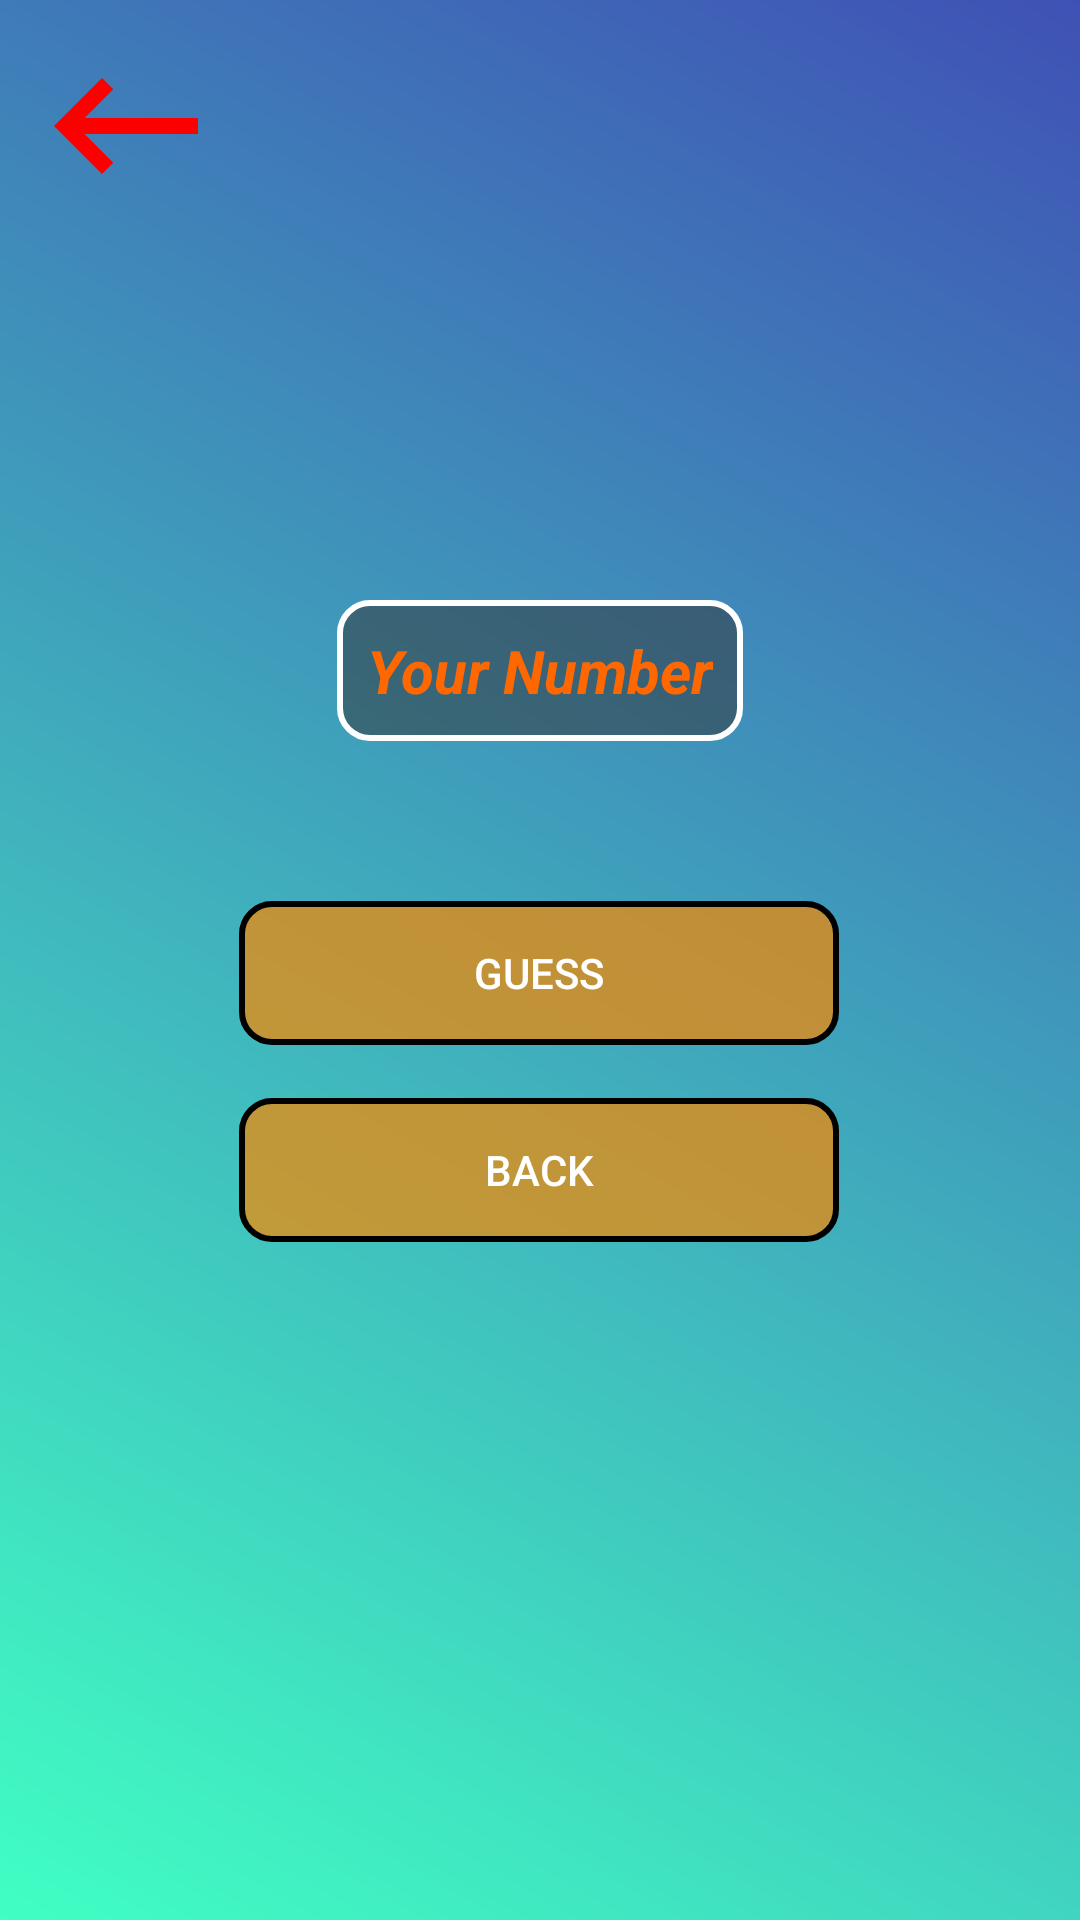

Named icons in this screenshot (1080*1920) and their bounding boxes, (x1, y1, x2, y2):
back: (54, 78, 198, 174)
